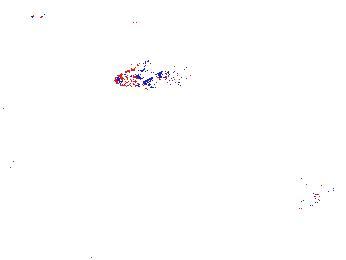X-ray fish: (274, 177, 322, 211), (155, 58, 199, 83), (319, 151, 346, 190)
glassfish: (285, 183, 346, 222)
red belly glassfish: (113, 67, 160, 87)
